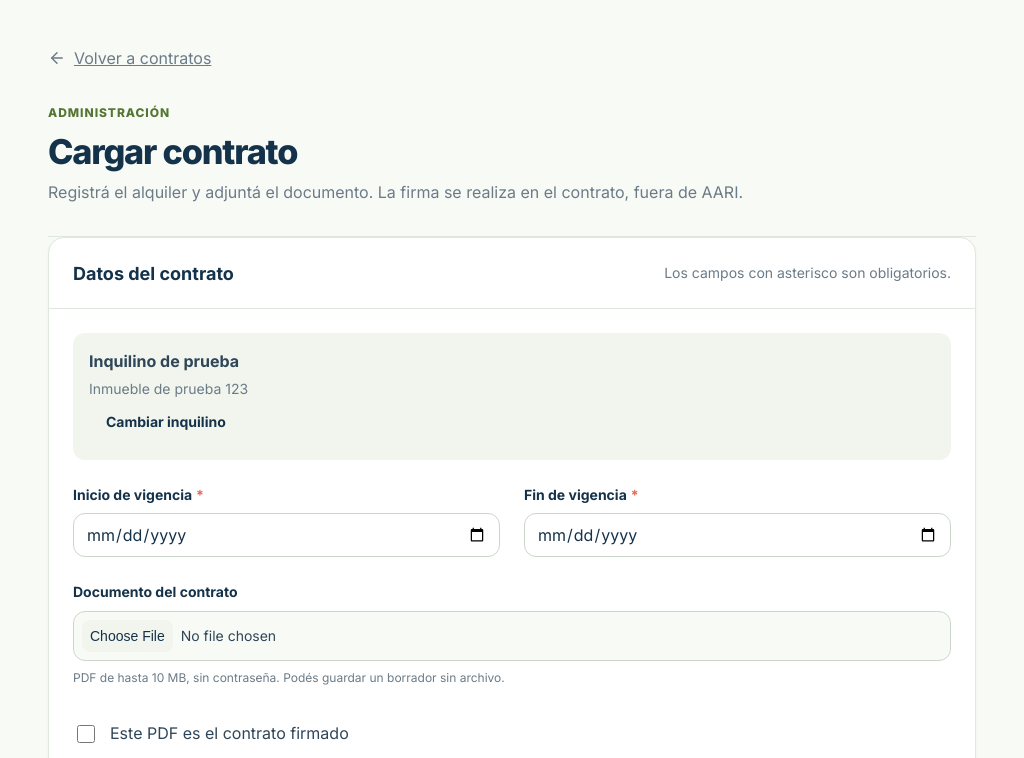
Test: contratos: validaciones y formularios › muestra errores de validación y no envía un período inválido
The width and height of the screenshot is (1024, 758).
Type "2027-09-01" into the date field labelled "Inicio de vigencia*". click: point(286, 535)
box: [73, 513, 500, 557]
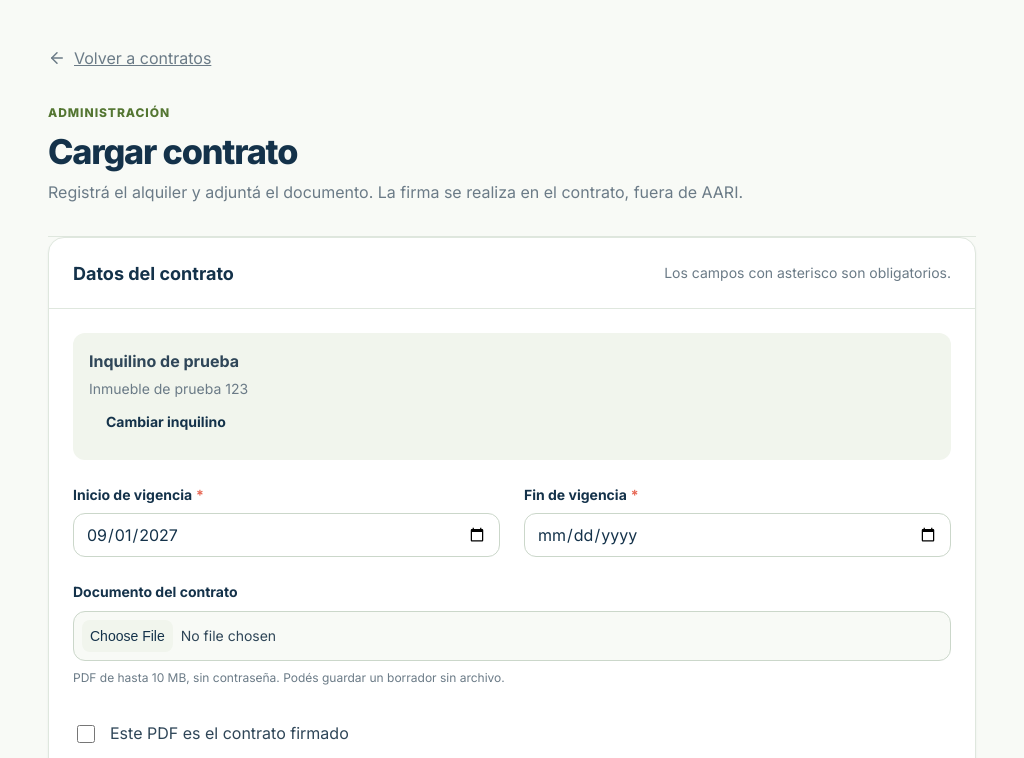
Type "2026-08-31" into the date field labelled "Fin de vigencia*". click: point(738, 535)
box: [524, 513, 951, 557]
(page scrolled)
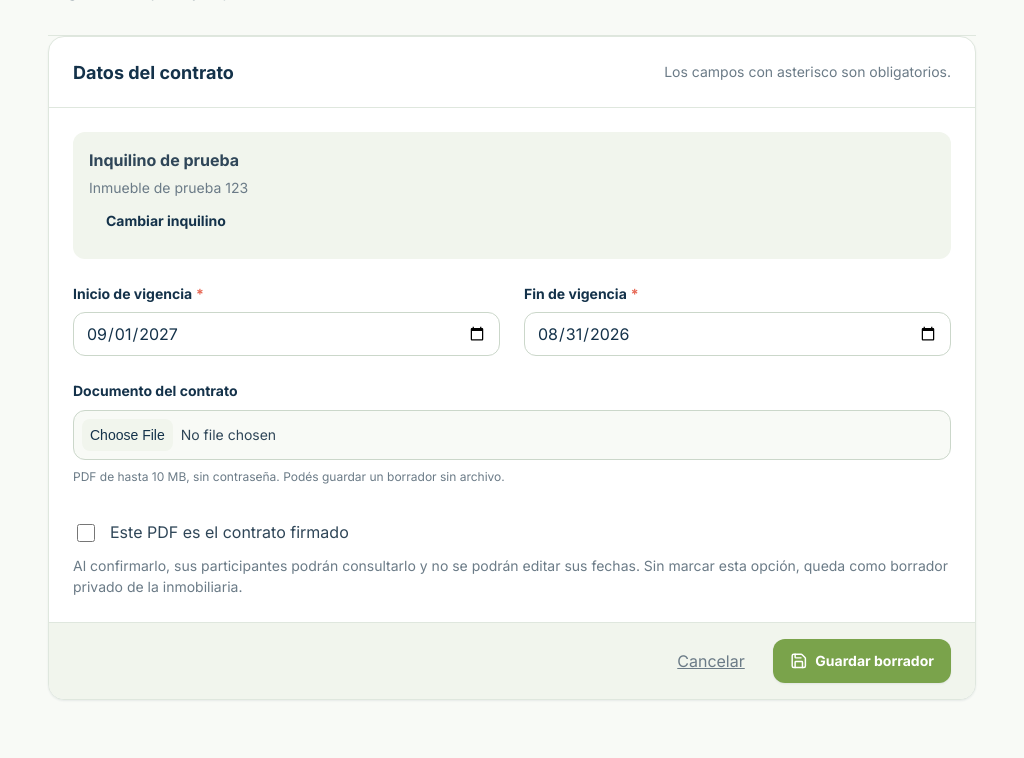
Click the button "Guardar borrador". click: point(862, 661)
box: [773, 639, 951, 683]
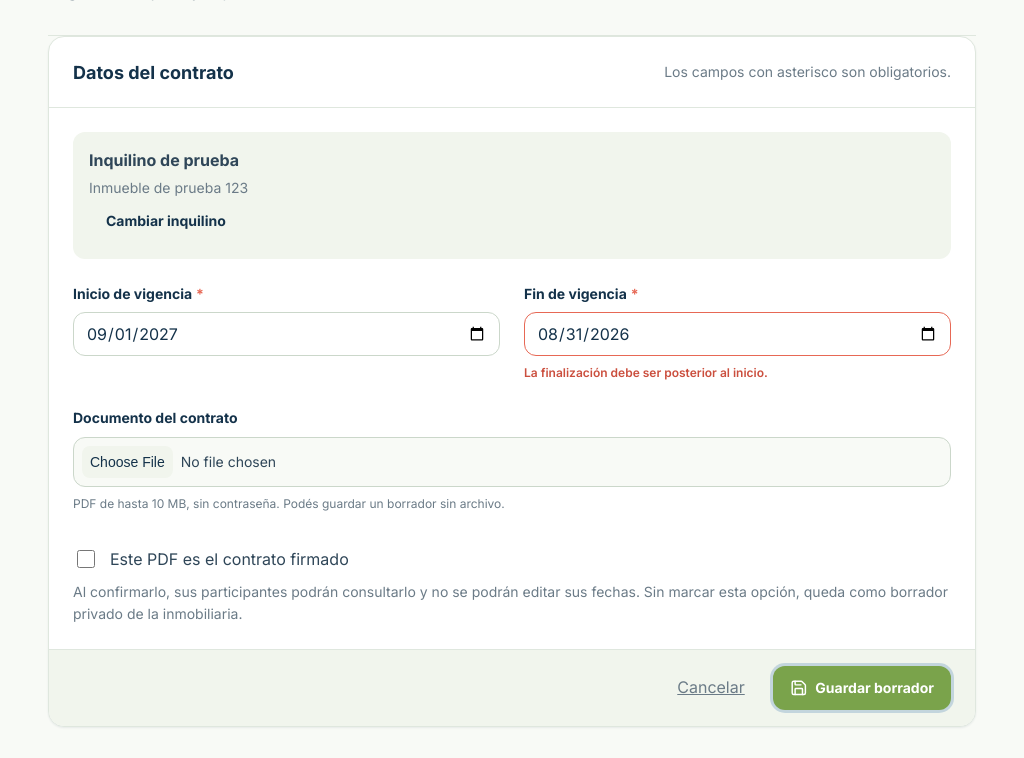
Expected: the text "La finalización debe ser posterior al inicio." is shown, [524, 365, 768, 380]
